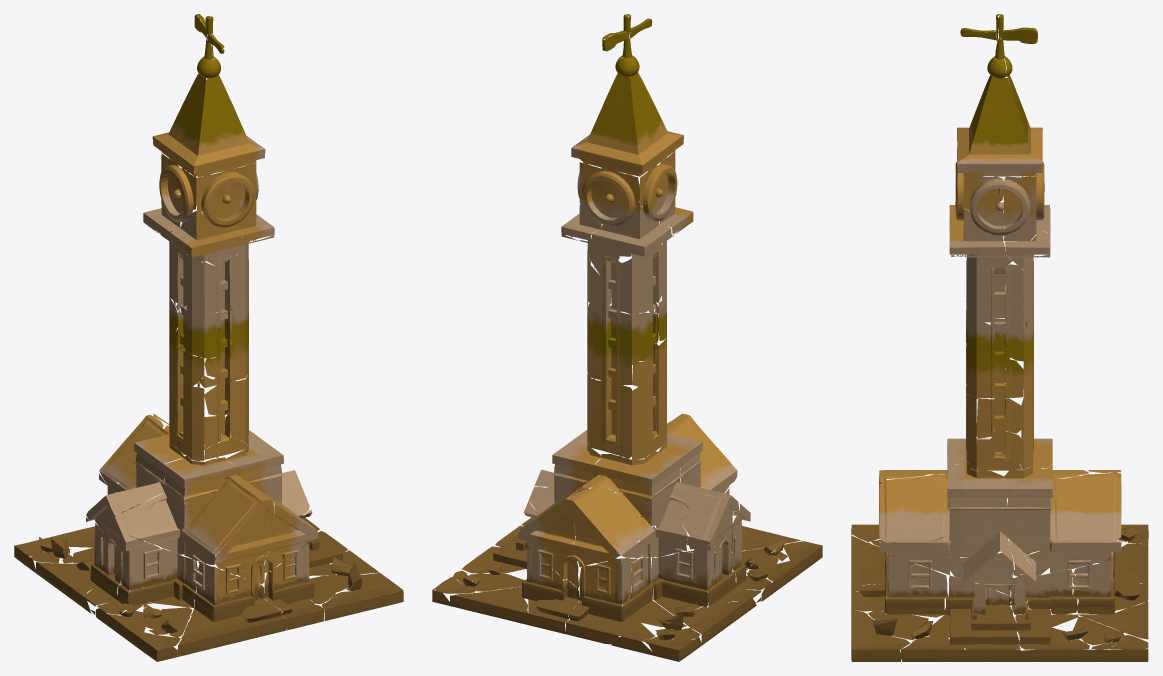
The model's file is hero-clock-tower.glb.
3 renders of one model, left to right at view 1: azimuth 30°, elevation 25°; view 2: azimuth 150°, elevation 25°; view 3: azimuth 270°, elevation 25°, orthographic. The views are drawn at different scales.
Visible parts, largest first — view 1: world; view 2: world; view 3: world.
Boxes of the visible parts, x1,y1,x2,y2 form: world: [14, 14, 403, 661]; world: [432, 14, 822, 661]; world: [851, 14, 1148, 661].
Bounding box in the file's own units: 2.69 × 5.86 × 2.7.
